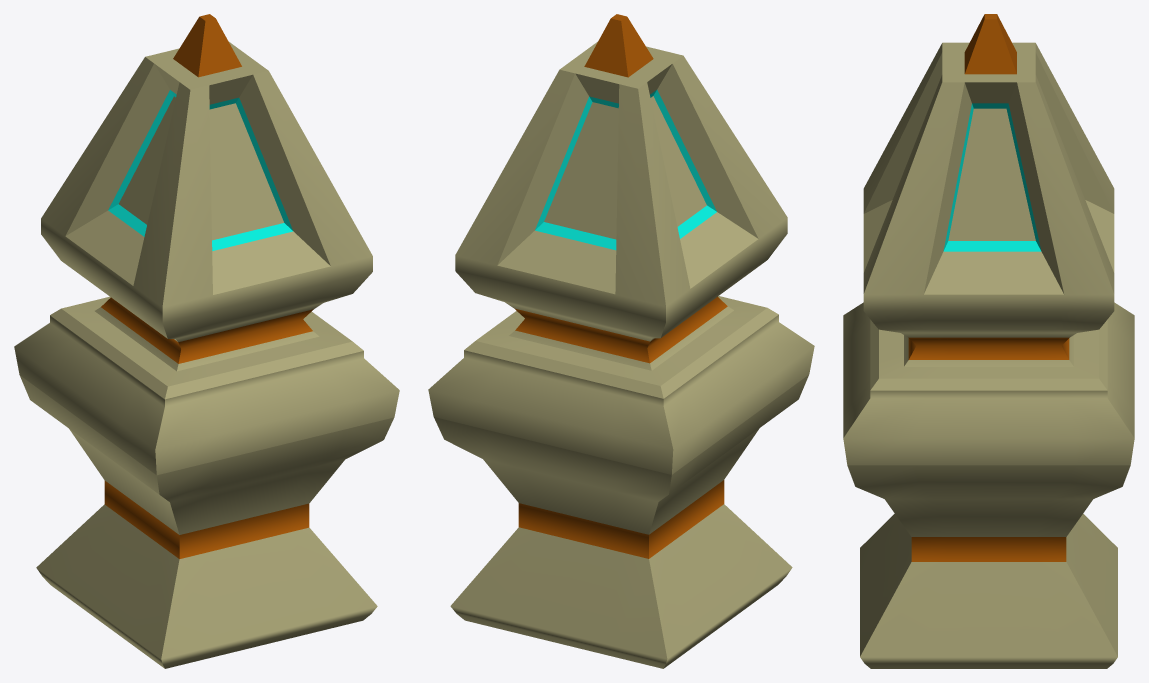
Rendered from Standbeeld_01.fbx.
3 views of the same model, side by side, from view 1: azimuth 30°, elevation 25°; view 2: azimuth 150°, elevation 25°; view 3: azimuth 270°, elevation 25° (orthographic). The views are drawn at different scales.
Parts seen in each view (by area): view 1: pCube1; view 2: pCube1; view 3: pCube1.
Part boxes in pixels (<box>): pCube1: <box>14,14,399,668</box>; pCube1: <box>428,14,814,668</box>; pCube1: <box>843,14,1134,668</box>.
Size of the model in its own units: 29.86 by 68.2 by 29.86.
